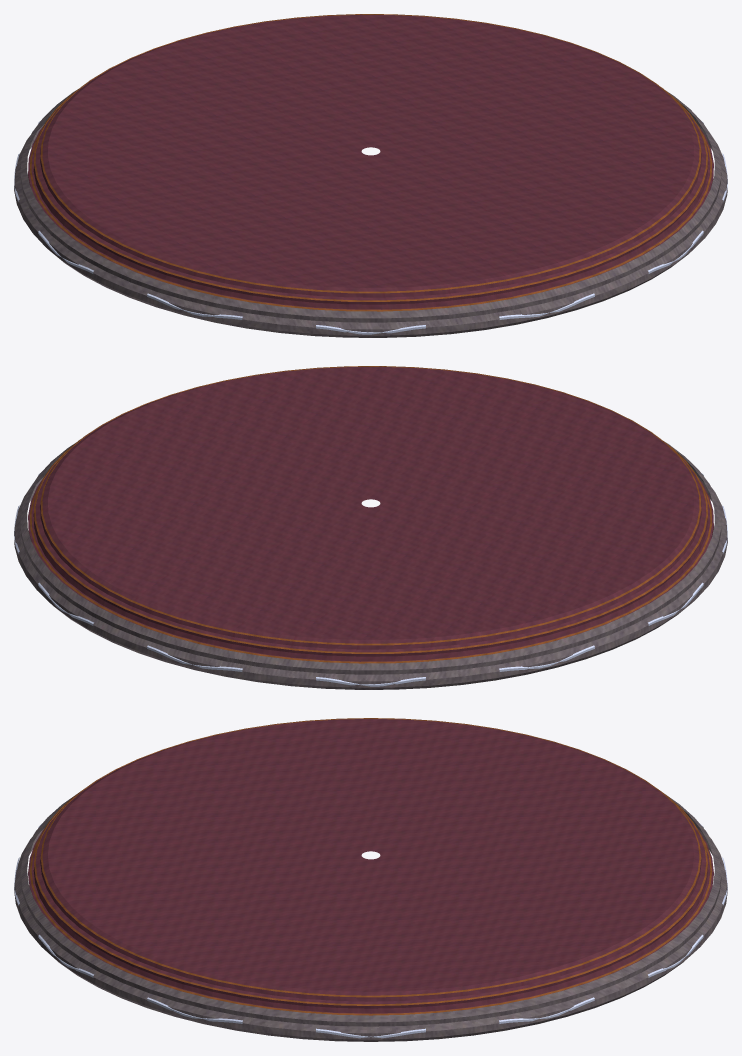
File: hero-carousel-plinth.glb
3 renders of one model, top to bottom at view 1: azimuth 30°, elevation 25°; view 2: azimuth 150°, elevation 25°; view 3: azimuth 270°, elevation 25°, orthographic.
Visible parts, largest first — view 1: Worn aubergine carousel enamel, Frosted plinth limestone, Brass carousel plinth bead, Snow packed into lower plinth seam; view 2: Worn aubergine carousel enamel, Frosted plinth limestone, Brass carousel plinth bead, Snow packed into lower plinth seam; view 3: Worn aubergine carousel enamel, Frosted plinth limestone, Brass carousel plinth bead, Snow packed into lower plinth seam.
Boxes of the visible parts, x1,y1,x2,y2 form: Worn aubergine carousel enamel: (28, 14, 713, 309); Frosted plinth limestone: (14, 89, 727, 337); Brass carousel plinth bead: (29, 14, 712, 311); Snow packed into lower plinth seam: (14, 121, 727, 334); Worn aubergine carousel enamel: (28, 366, 713, 661); Frosted plinth limestone: (14, 441, 727, 689); Brass carousel plinth bead: (29, 366, 712, 663); Snow packed into lower plinth seam: (14, 473, 727, 686); Worn aubergine carousel enamel: (28, 719, 713, 1013); Frosted plinth limestone: (14, 793, 727, 1041); Brass carousel plinth bead: (29, 718, 712, 1015); Snow packed into lower plinth seam: (14, 824, 727, 1038).
Size of the model in its own units: 7.6 by 0.438 by 7.6.
4 materials, 4 textured.
